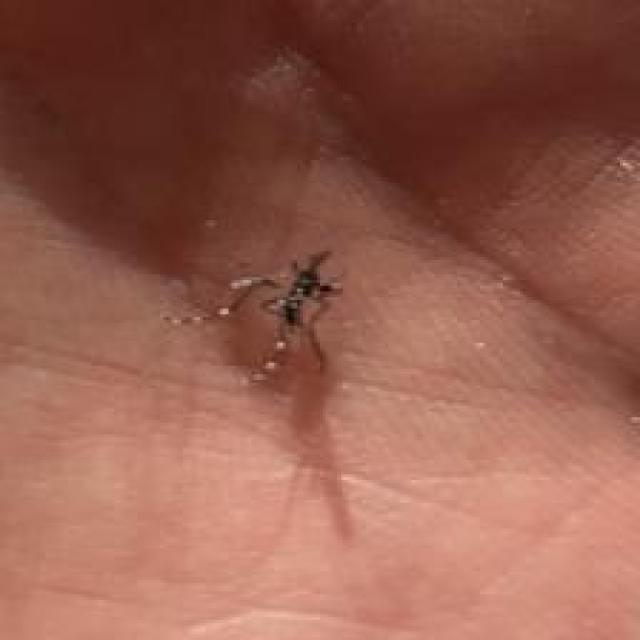Aedes albopictus: (214, 247, 346, 382)
